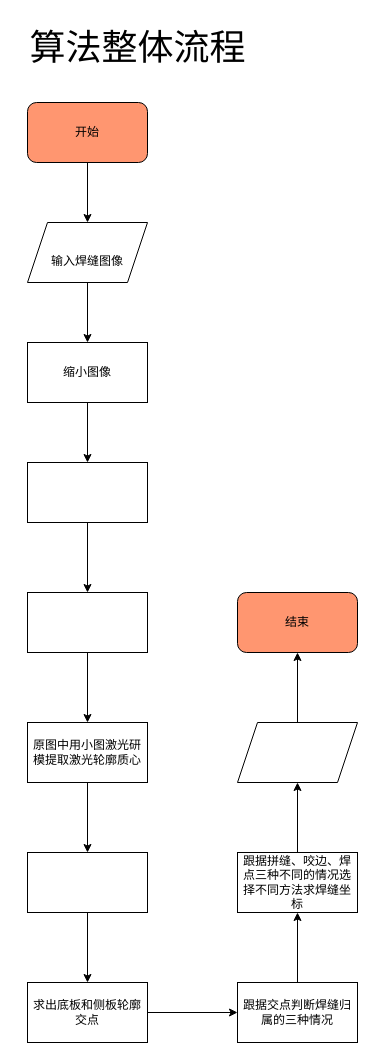
The diagram is 375 pixels wide and 1060 high, and some of its shapes have lost their labels. Here are the shapes that lost their labels. From the top down, the centre of each, then its label:
At point 87,492: "小图中形态学过滤飞溅和反光".
At point 87,622: "小图中提取出激光研模".
At point 297,752: "输出焊缝坐标".
At point 87,882: "把激光轮廓质心分为底板和侧板部分".
